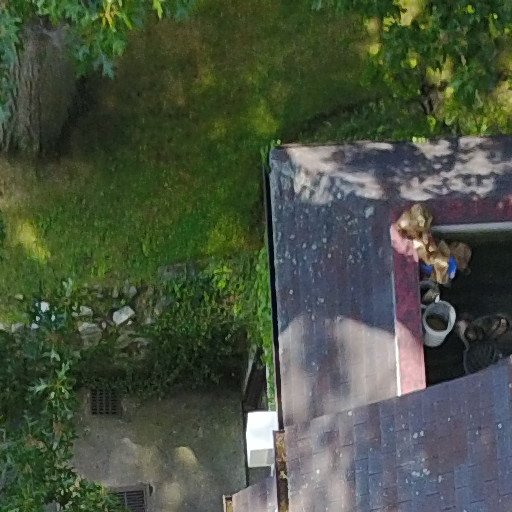container: (422, 298, 457, 354), (416, 277, 442, 311)
tarp: (389, 202, 473, 284)
